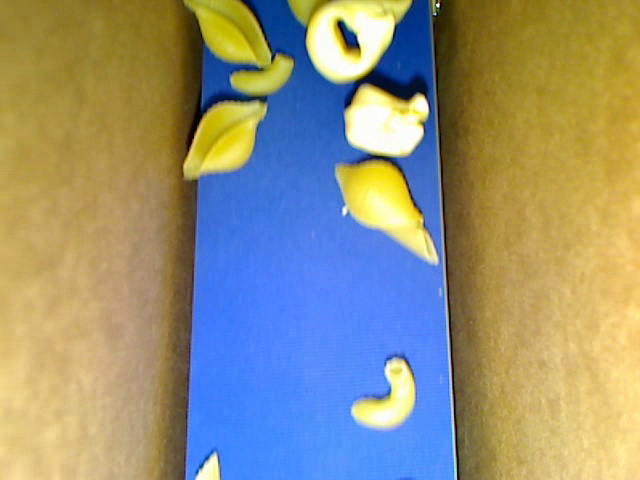elbow: (349, 354, 415, 430), (229, 53, 293, 94)
penne: (378, 225, 439, 264)
shell: (184, 100, 266, 180), (334, 161, 424, 229), (182, 1, 272, 68)
tortellini: (305, 1, 395, 86), (342, 83, 429, 157)
